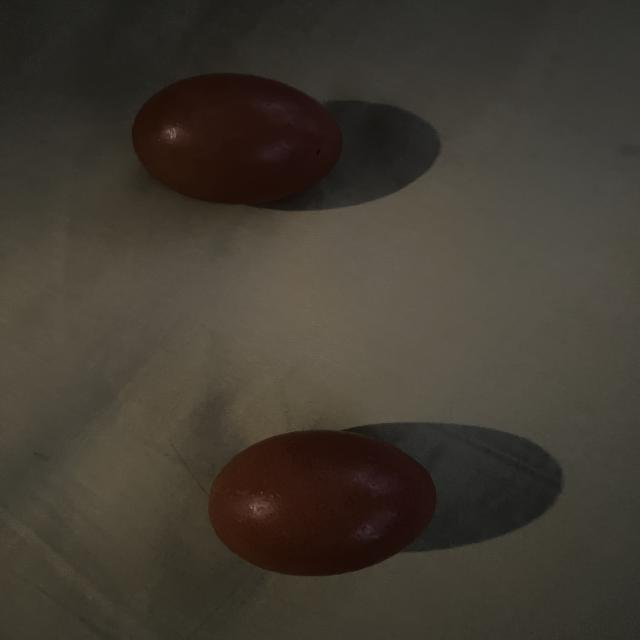Egg: (186, 417, 449, 581), (124, 68, 350, 211)
